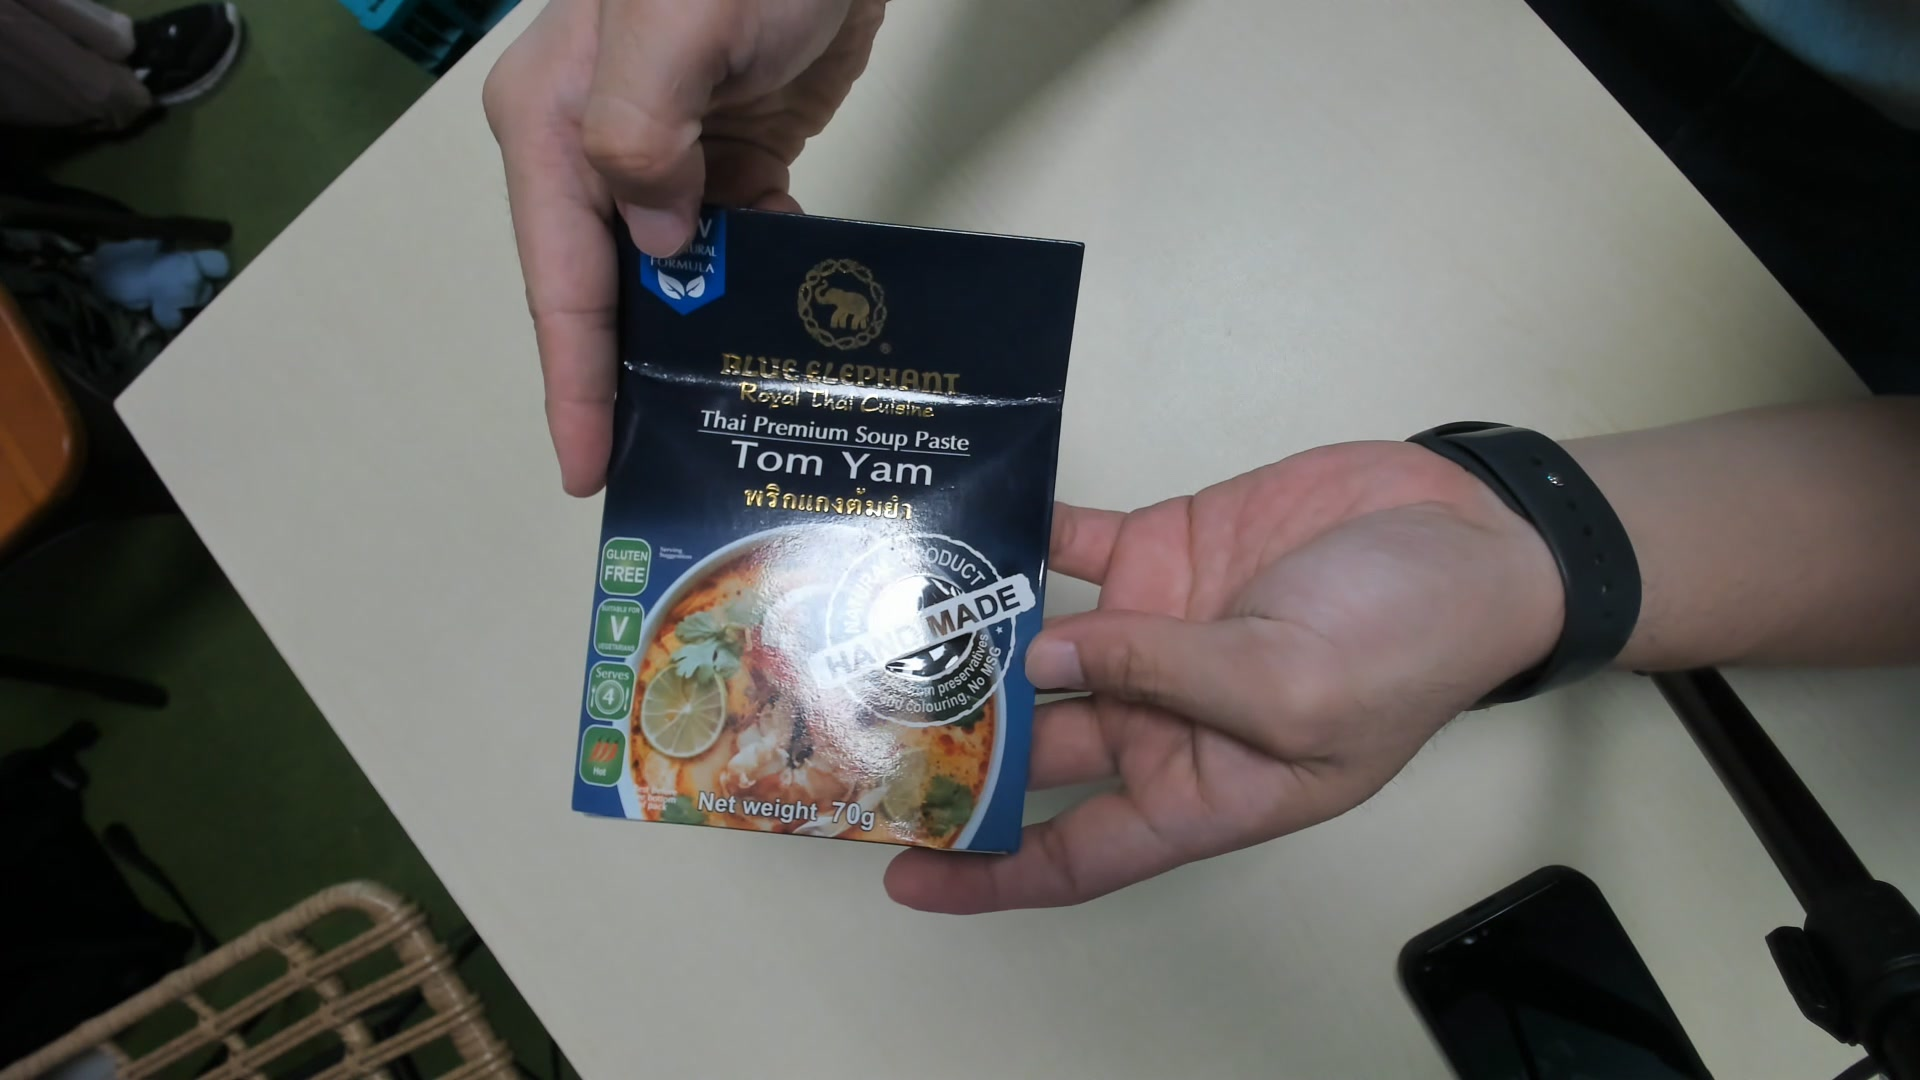OtherSauceDressing_0-99g_Halal_NonHealthy: (574, 181, 1083, 858)
